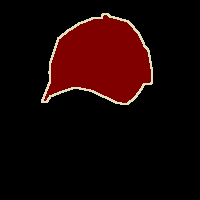hat: (42, 14, 152, 104)
